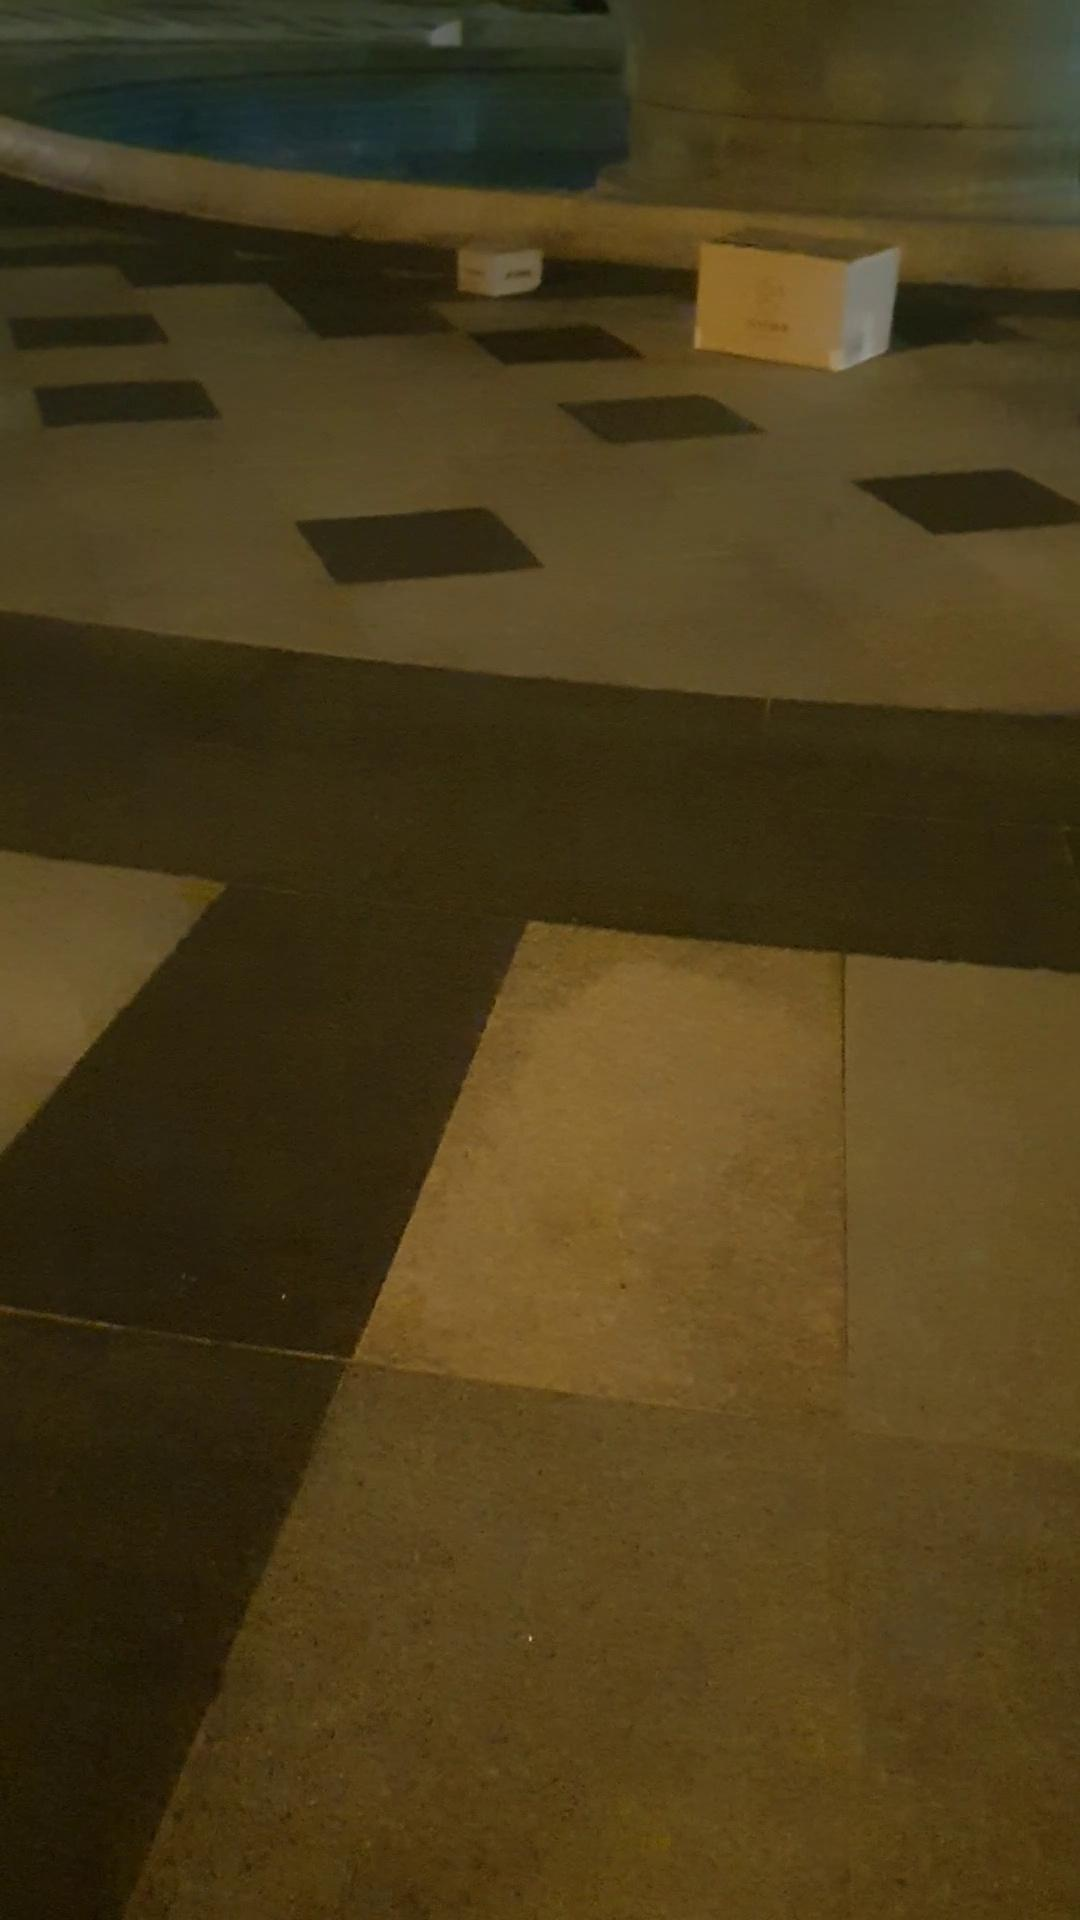Box: (680, 203, 899, 377), (429, 228, 550, 302)
